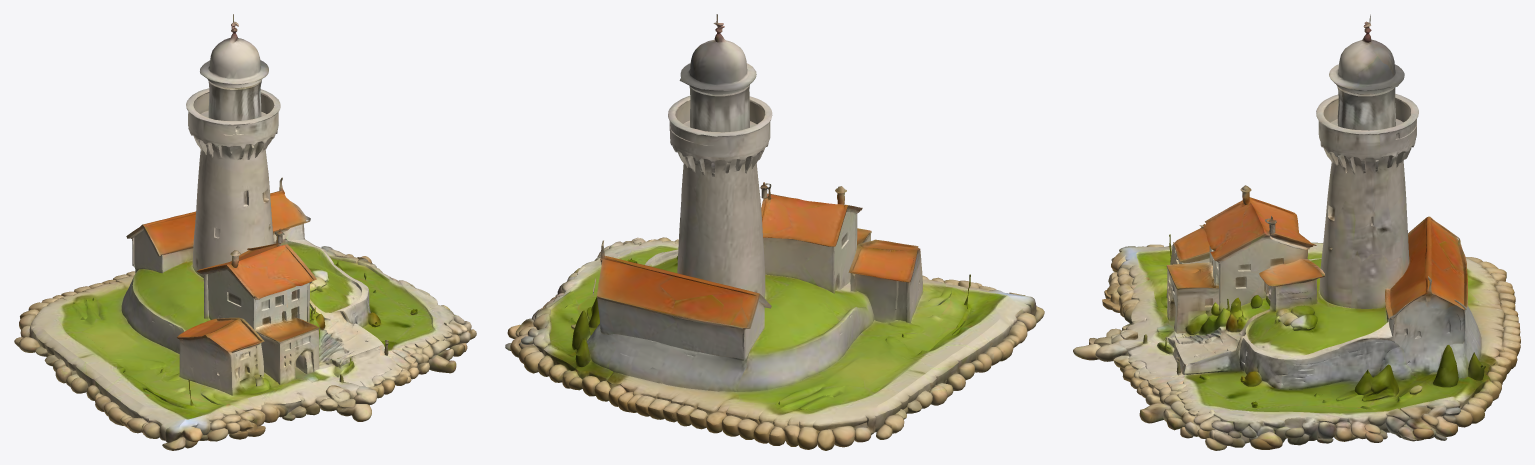
The model's file is base_basic_pbr.glb.
3 renders of one model, left to right at view 1: azimuth 30°, elevation 25°; view 2: azimuth 150°, elevation 25°; view 3: azimuth 270°, elevation 25°, orthographic. The views are drawn at different scales.
Visible parts, largest first — view 1: model; view 2: model; view 3: model.
Boxes of the visible parts, bbox=[...] form: model: bbox=[14, 14, 476, 450]; model: bbox=[505, 14, 1044, 450]; model: bbox=[1073, 14, 1520, 450].
Bounding box in the file's own units: 1.9 × 1.56 × 1.83.
1 material, 1 textured.
